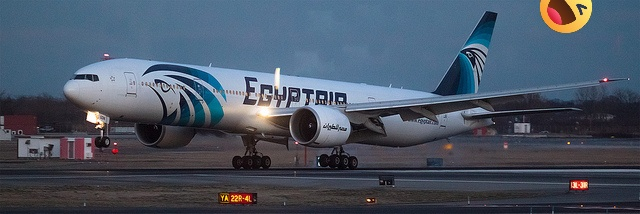haha: (540, 0, 592, 33)
